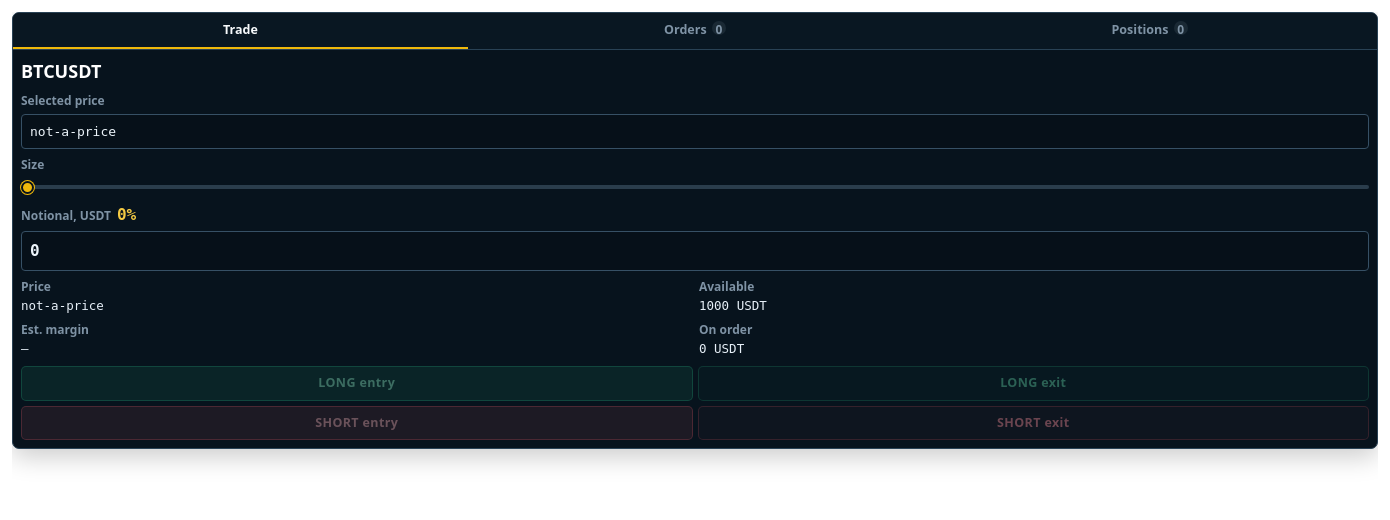
Test: FuturesTradingTicket › describes invalid positive draft input without blaming Binance filters
Set the slider named "Order size percent" to "25" at (362,187), box 21,178 -> 1369,196
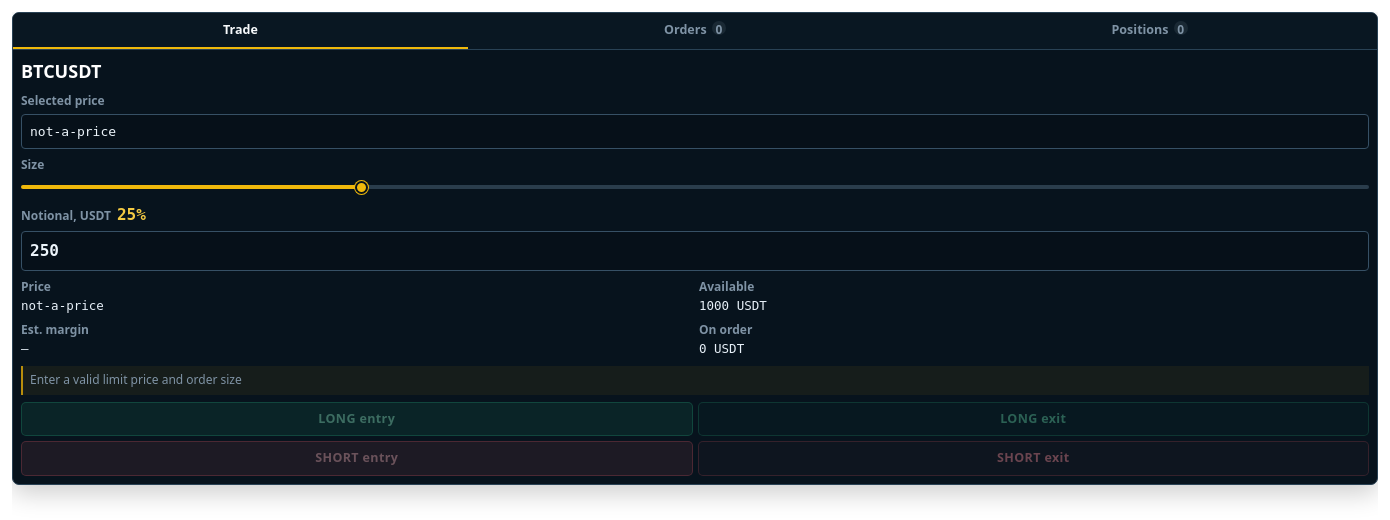
Check: the button "LONG entry" is disabled, box 21,402 -> 692,436
Check: the text "Enter a valid limit price and order size" is shown, box 21,366 -> 1369,395
